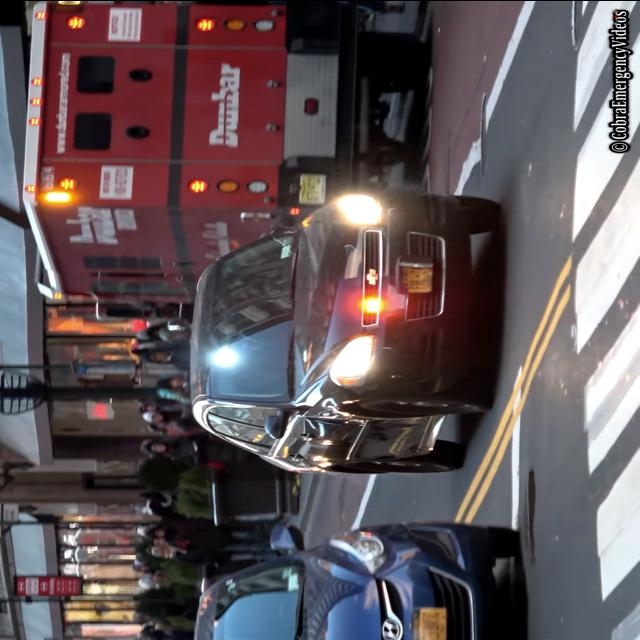emergency-vehicles: (19, 0, 408, 324), (167, 180, 501, 484)
